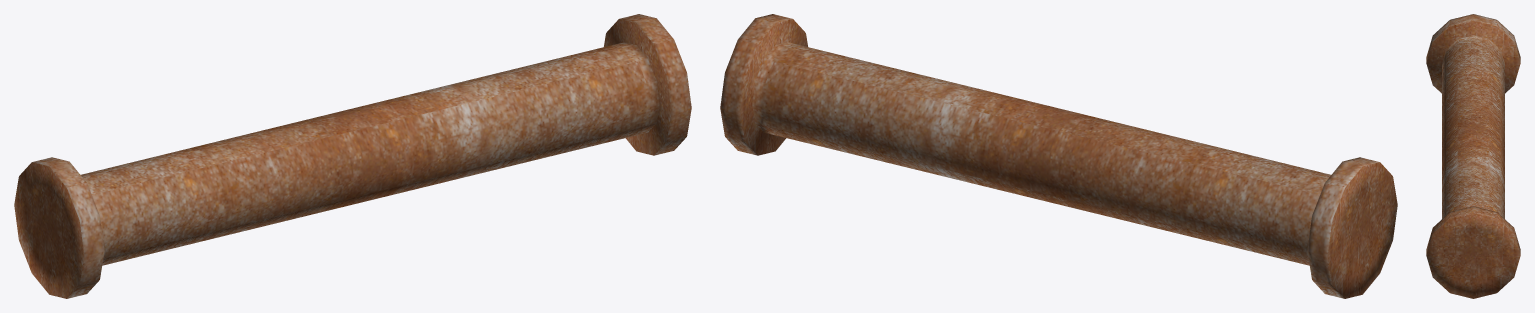
File: pipe.common.fbx
The picture shows the model from 3 angles, left to right: view 1: azimuth 30°, elevation 25°; view 2: azimuth 150°, elevation 25°; view 3: azimuth 270°, elevation 25°; orthographic projection. The views are drawn at different scales.
Parts seen in each view (by area): view 1: Cylinder; view 2: Cylinder; view 3: Cylinder.
Part boxes in pixels (x1,y1,x2,y2): Cylinder: (14, 14, 691, 298); Cylinder: (720, 14, 1397, 298); Cylinder: (1426, 14, 1520, 298).
Size of the model in its own units: 300 by 60.56 by 60.03.
1 material, 1 textured.
